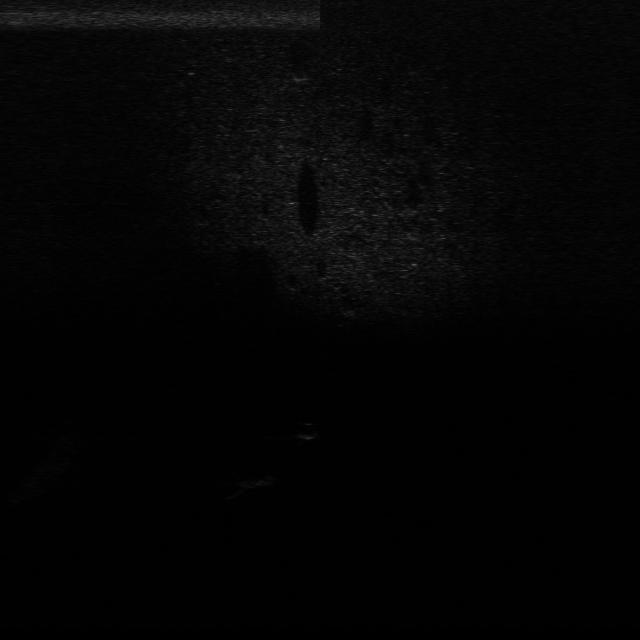ball: (296, 418, 324, 442)
square cage: (234, 471, 276, 490)
